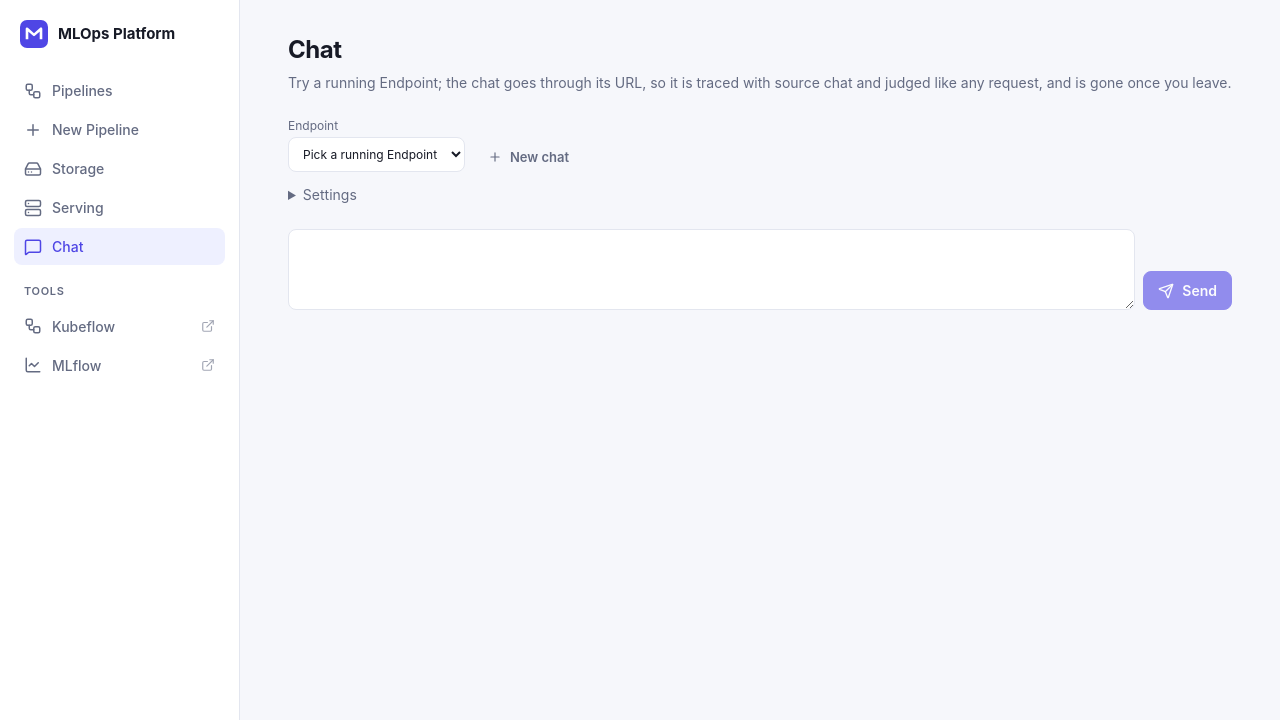
Test: an answer streams into its message, with its reasoning folded above it
Select "chat" in the dropdown labelled "Endpoint" at x=376, y=154, box [288,137,465,172]
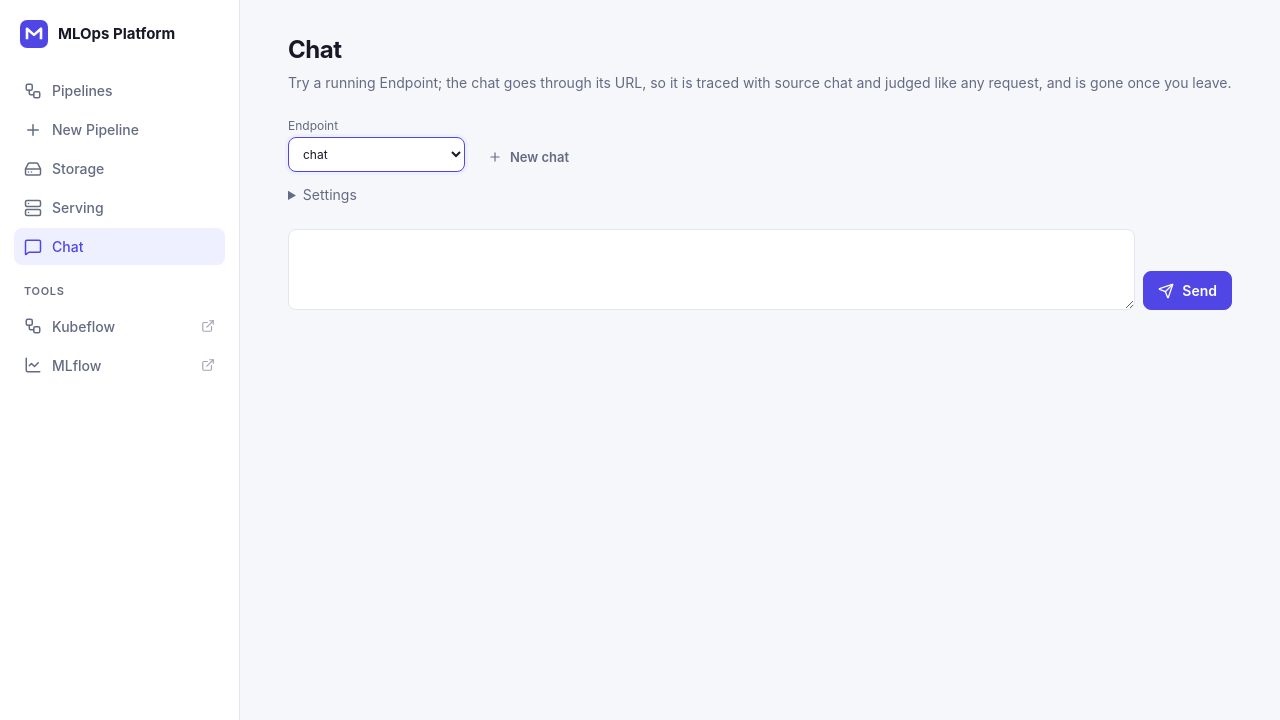
Type "Say hi." into the text box named "Message".
click(712, 270); type("Say hi.")  # box [288,229,1135,310]
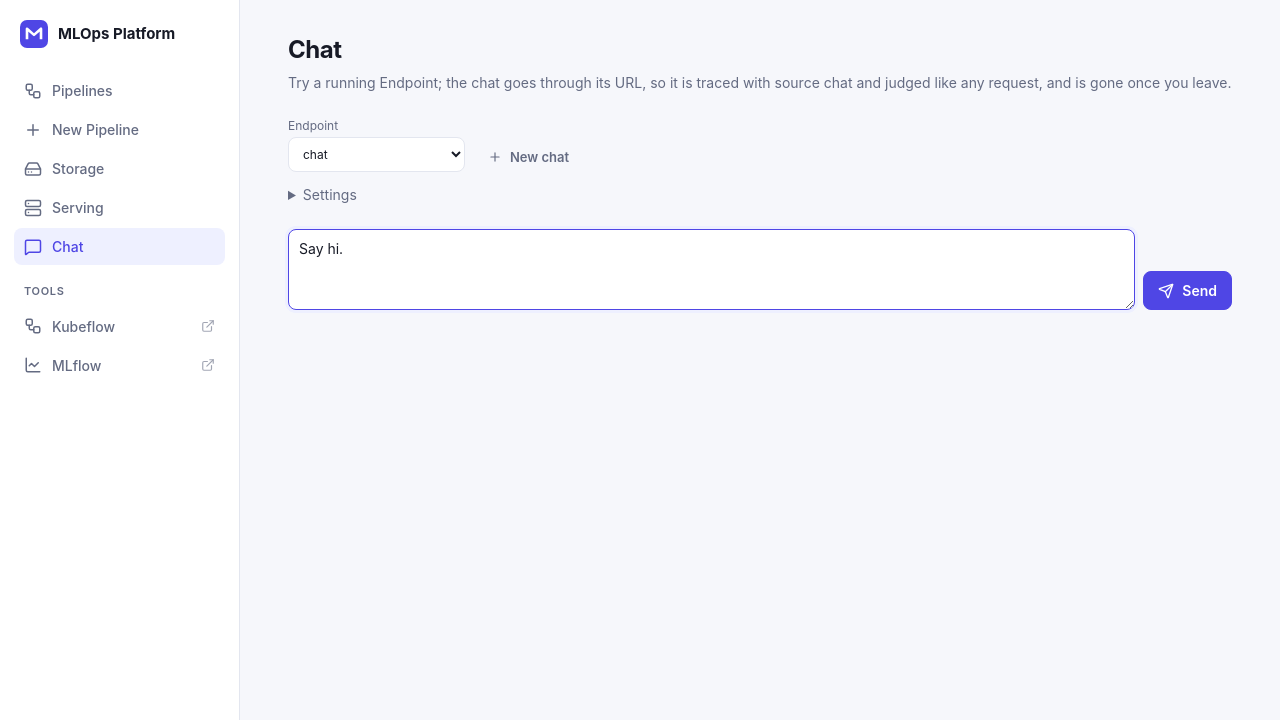
Click the button "Send".
click(1188, 290)  # box [1143,271,1232,310]
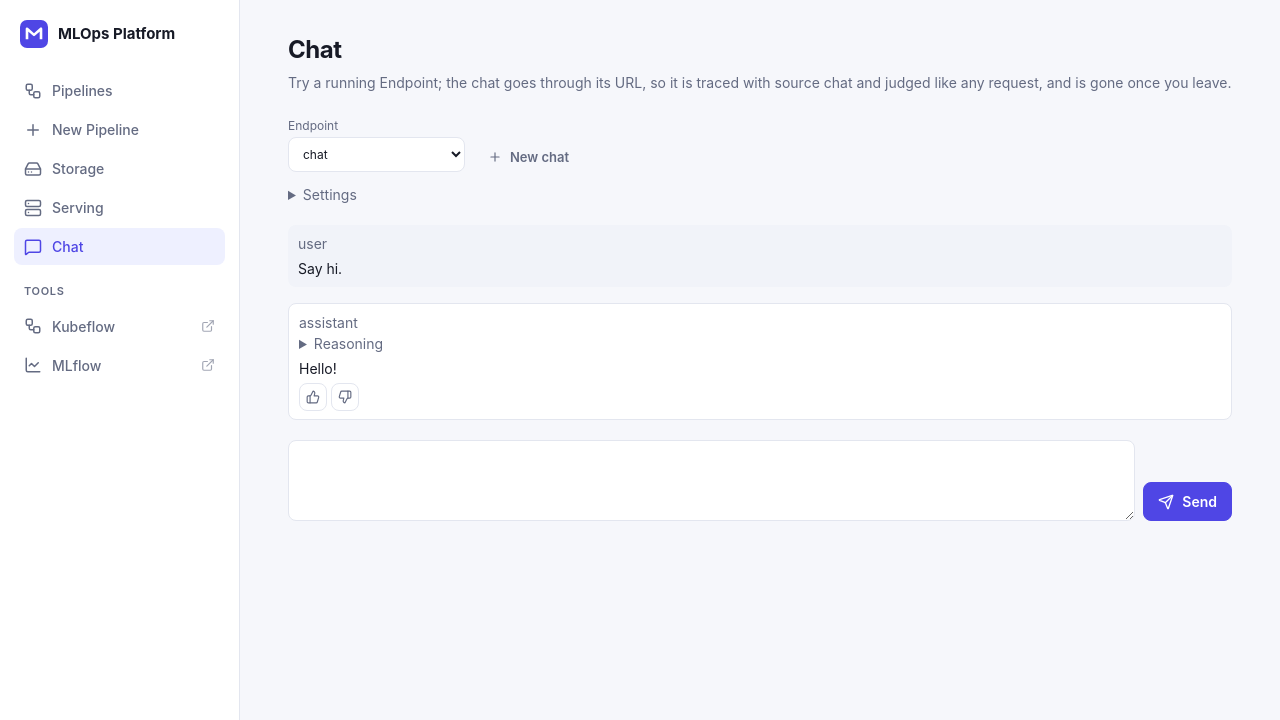
Check: the text "Hello!" is shown, box [299,360,337,377]
Check: the heading "Reasoning" is shown, box [314,335,383,352]
